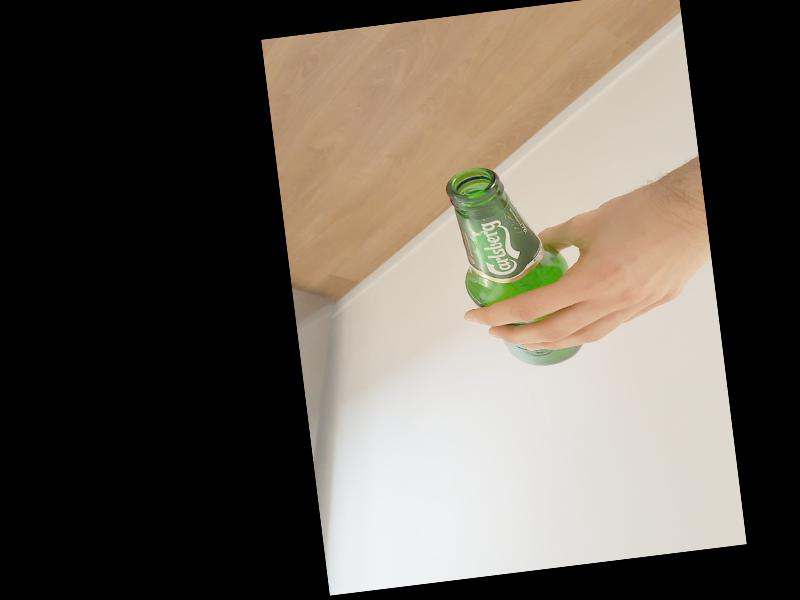Beer: (444, 157, 580, 374)
